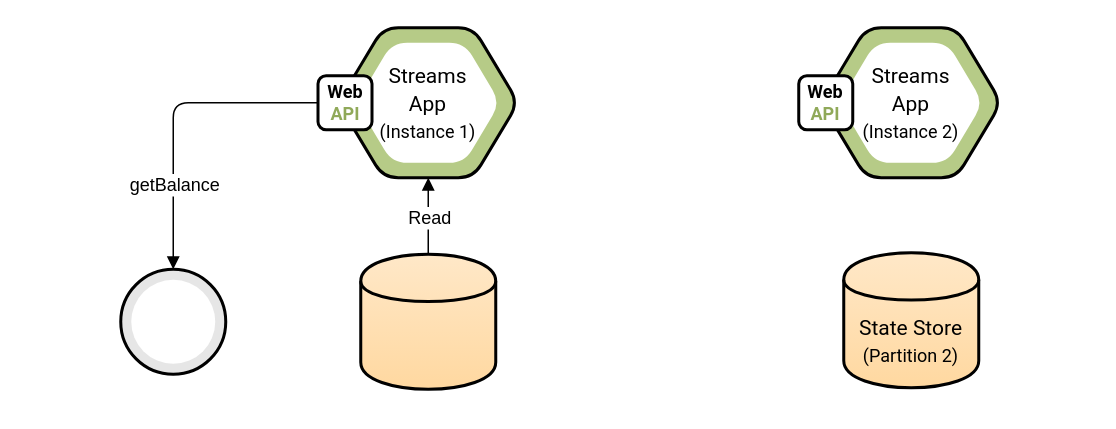
Some shapes in this 1116 by 429 pixel diagram are drawn without their labels. Here are the shapes that lost their labels. From the top down, the centre of each, then its label:
At point 172,321: "Client".
At point 427,321: "State Store (Partition 1)".
